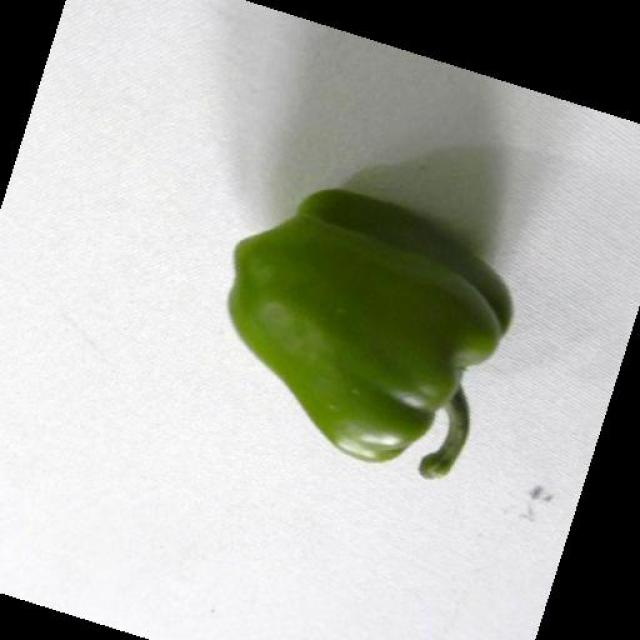Fresh_Capsicum: (211, 177, 505, 497)
